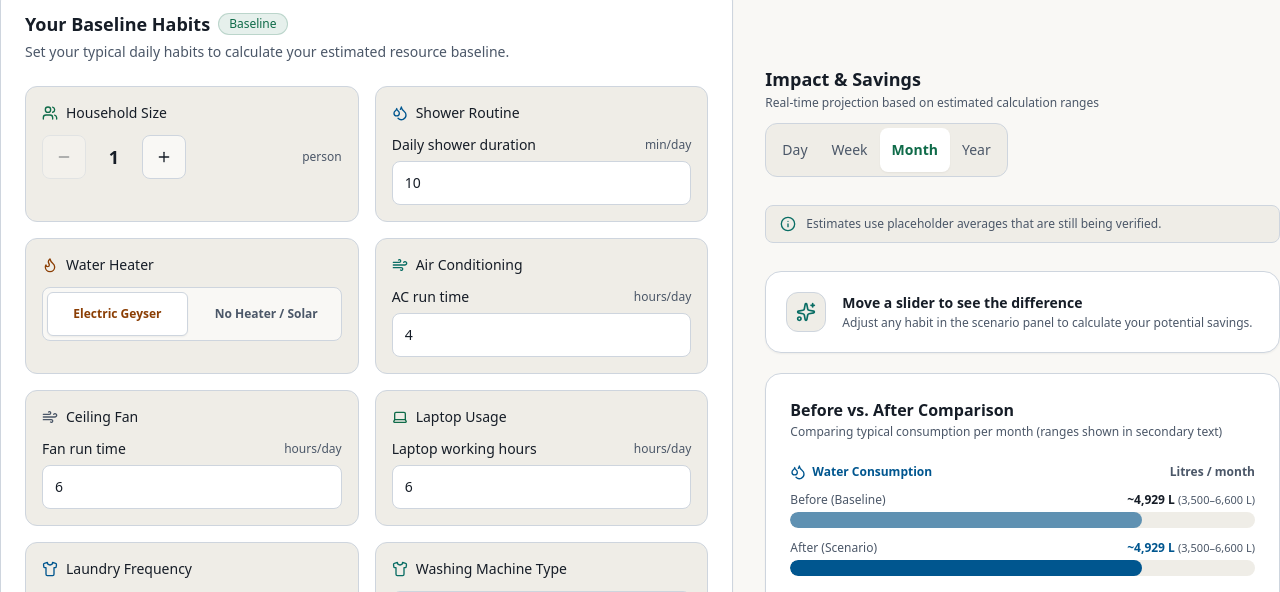
Simulator Component › handles water-only change by hiding unchanged energy resource
First, set baseline shower heater to "none" so shower changes affect ONLY water
Click the radio button labelled "No Heater / Solar".
click(266, 314)  # box [196, 292, 337, 336]
(page scrolled)
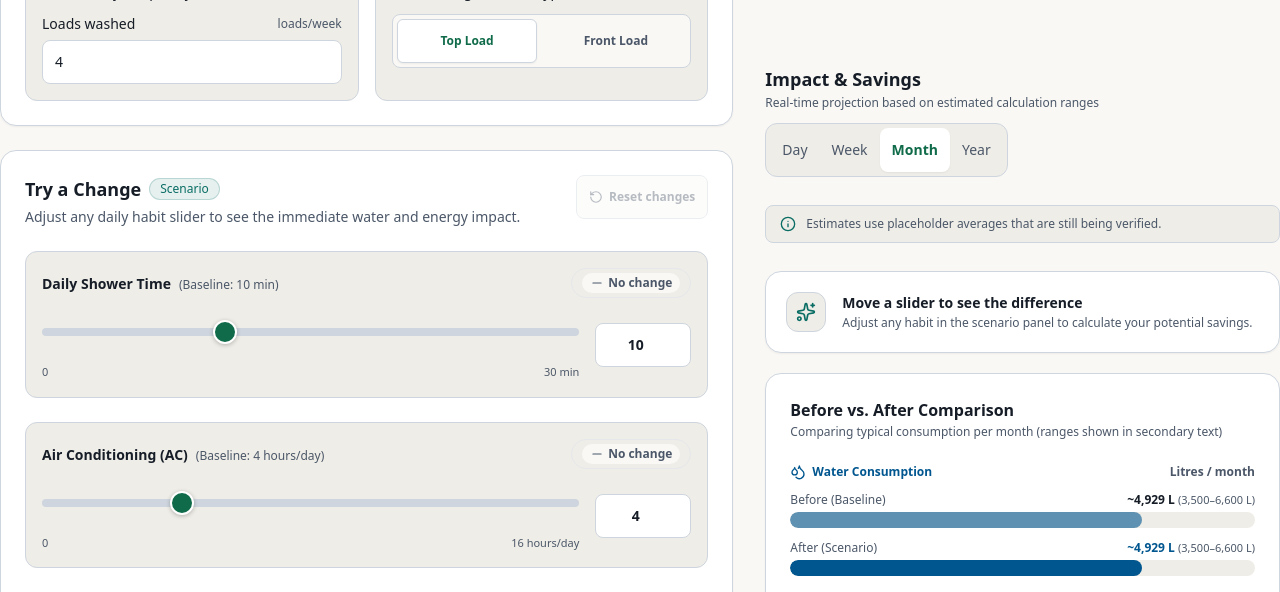
Now reduce shower minutes in scenario from 10 to 5 minutes
Replace the text in the number field named "daily shower time numeric input" with "5" at (643, 345), box [595, 323, 691, 367]
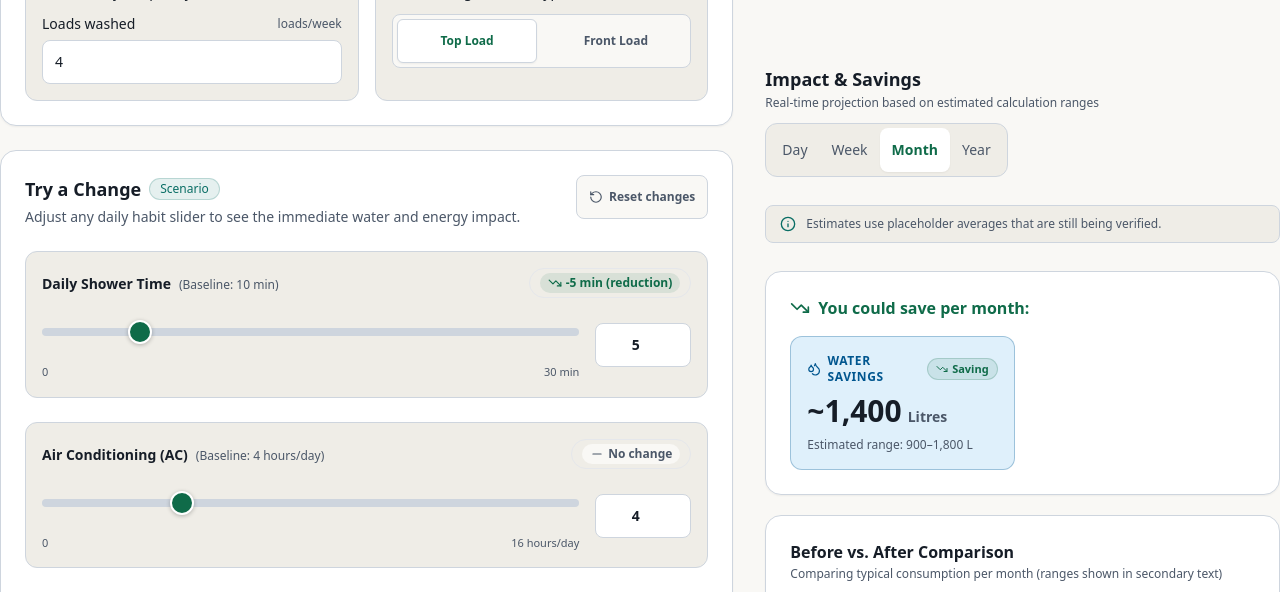
Expected: the text "You could save per month:" is shown, [818, 296, 1029, 320]
Expected: the text "Water Savings" is shown, [828, 352, 884, 385]
Expected: the text "~1,400" is shown, [807, 393, 902, 429]
